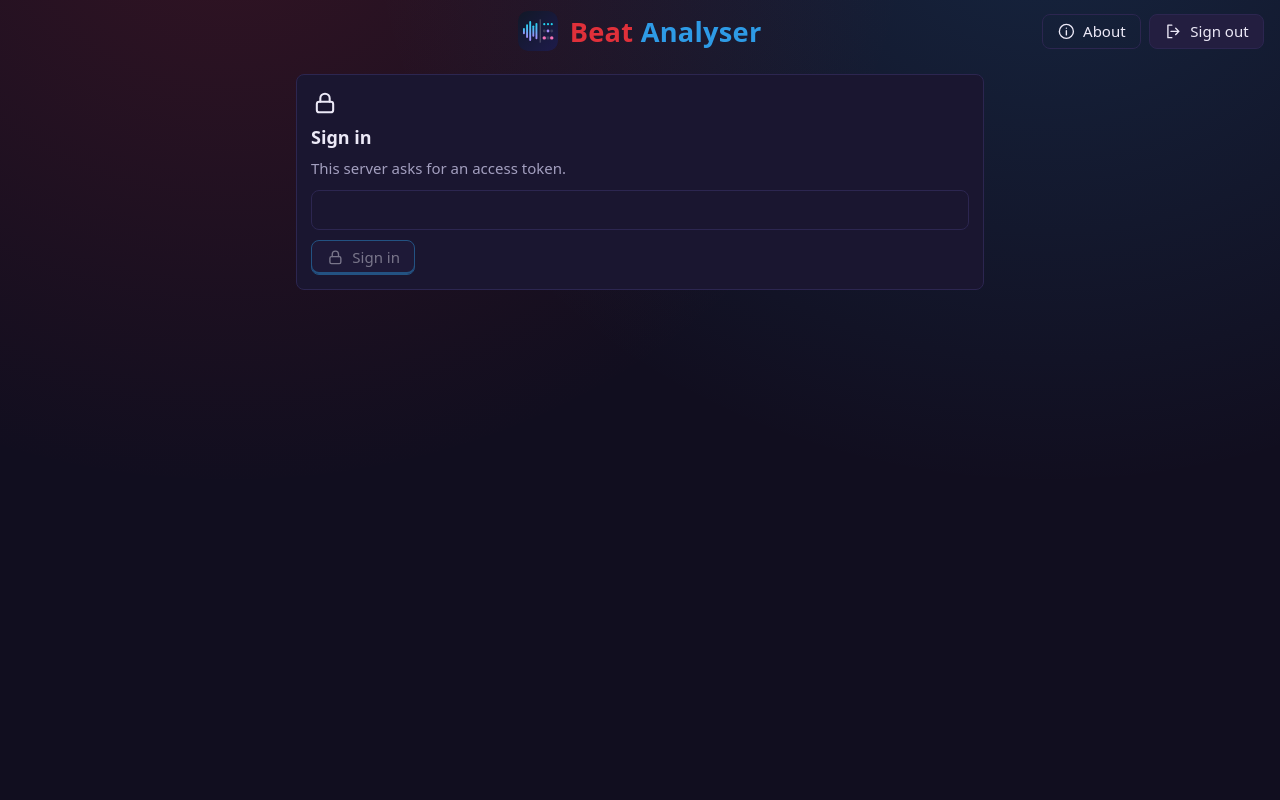
Test: App sign-in › shows the Sign in page on a 401, signs in and retries
The width and height of the screenshot is (1280, 800).
Expected: the heading "Sign in" is shown, [311,127,372,148]
Type "tok" into the password field named "Access token". click: (640,210)
box: [311,190,969,230]
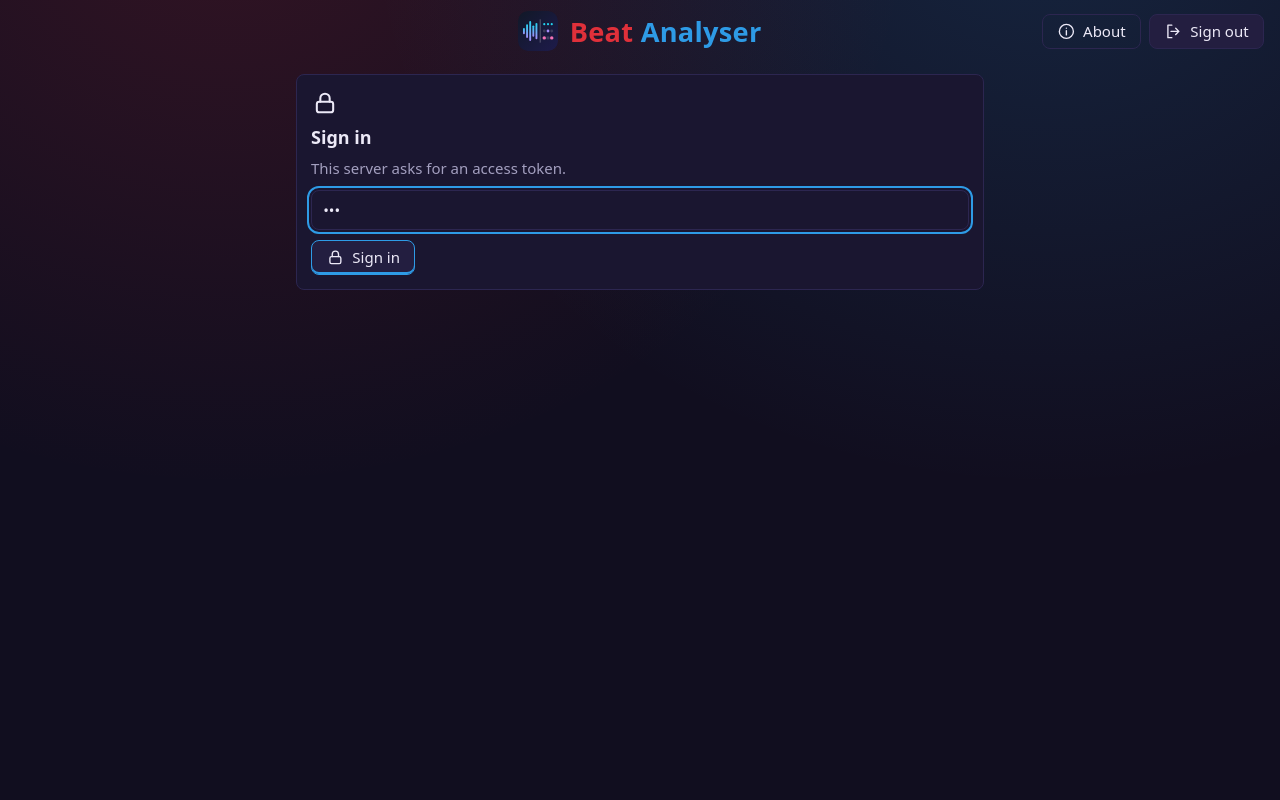
Click the button "Sign in". click: (363,257)
box: [311,240,415,275]
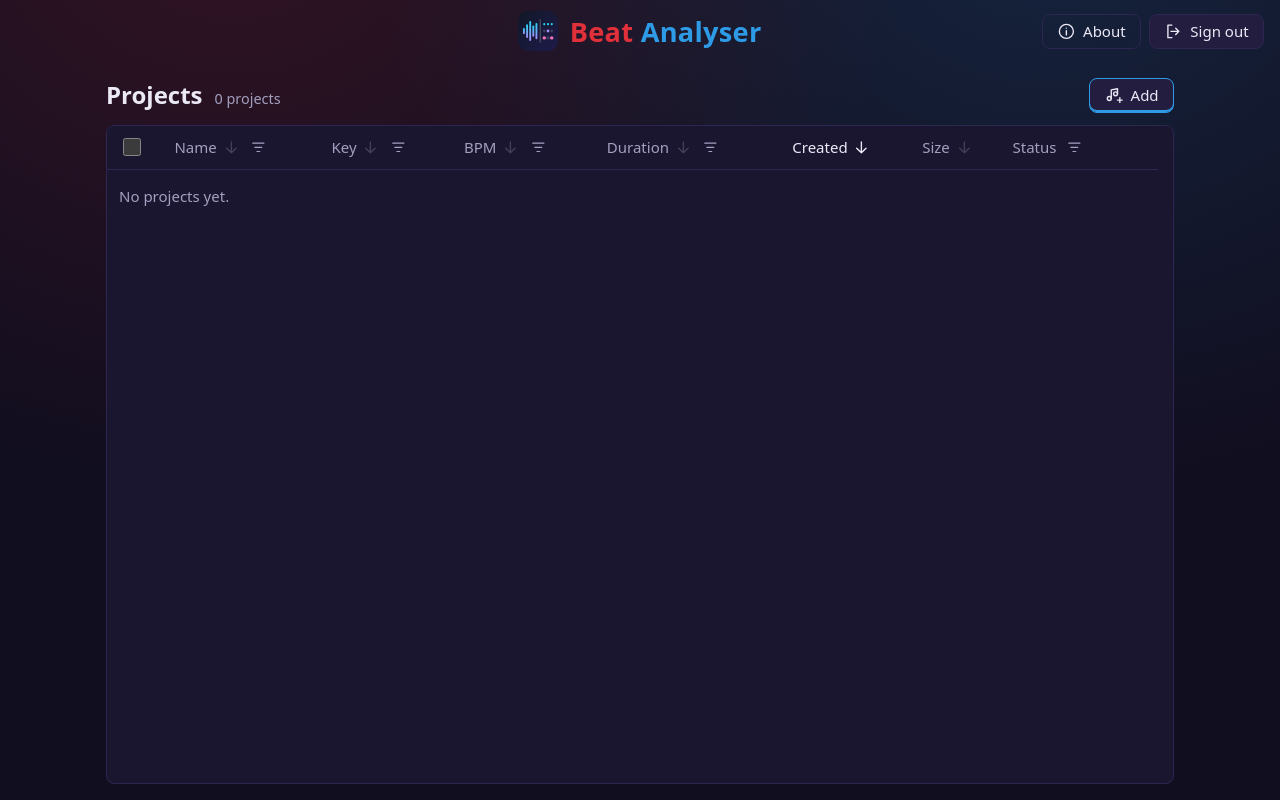
Expected: the button "Sign out" is shown, [1149,14,1264,49]
Expected: the text labelled "access token" is gone
